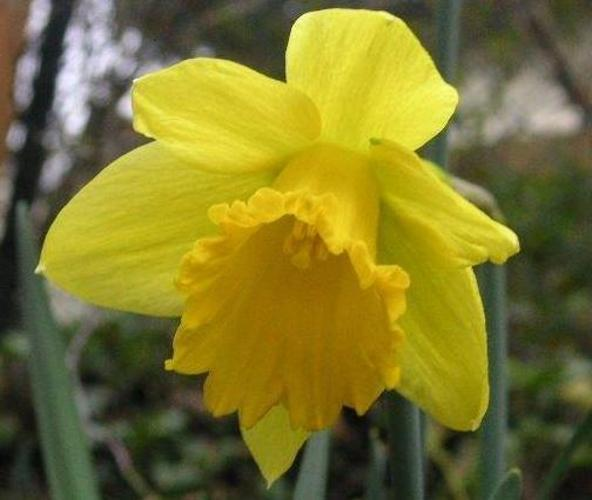flower1: (33, 7, 523, 490)
